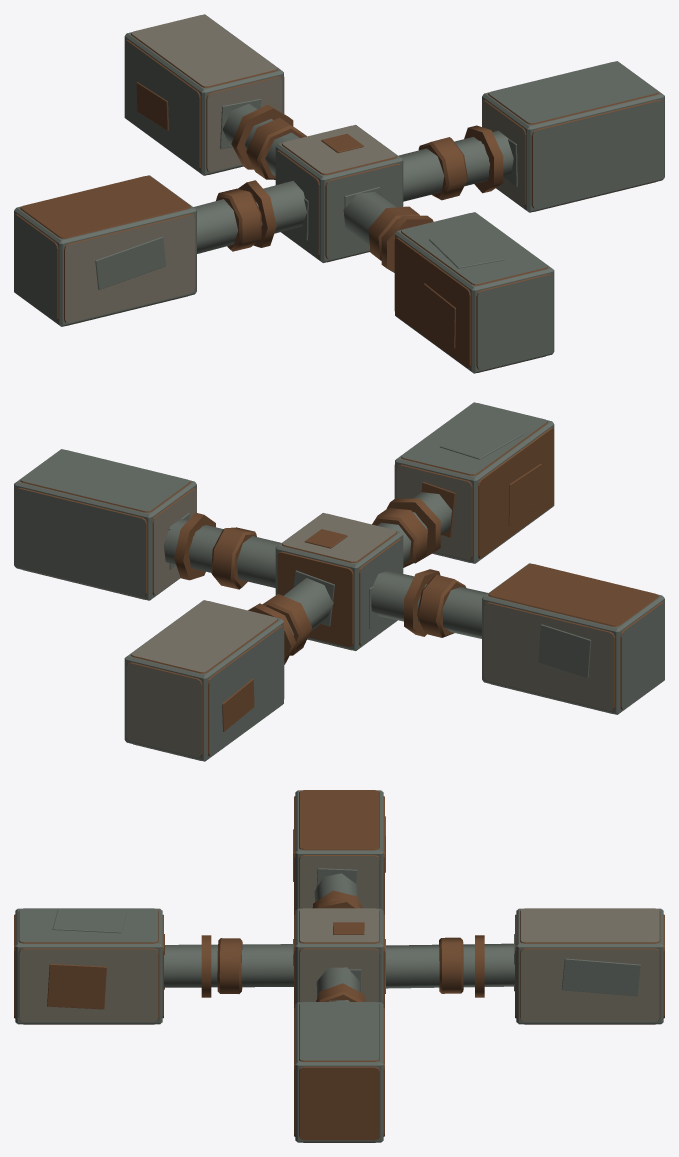
The model's file is R4C_ROD_PLUS.fbx.
The picture shows the model from 3 angles, top to bottom: view 1: azimuth 30°, elevation 25°; view 2: azimuth 150°, elevation 25°; view 3: azimuth 270°, elevation 25°; orthographic projection. The views are drawn at different scales.
Visible parts, largest first — view 1: R4C_ROD_PLUS; view 2: R4C_ROD_PLUS; view 3: R4C_ROD_PLUS.
Boxes of the visible parts, left/top/right/bottom form: R4C_ROD_PLUS: left=14, top=14, right=664, bottom=373; R4C_ROD_PLUS: left=14, top=402, right=664, bottom=761; R4C_ROD_PLUS: left=14, top=790, right=664, bottom=1142.
Bounding box in the file's own units: 1.62 × 0.232 × 1.62.
